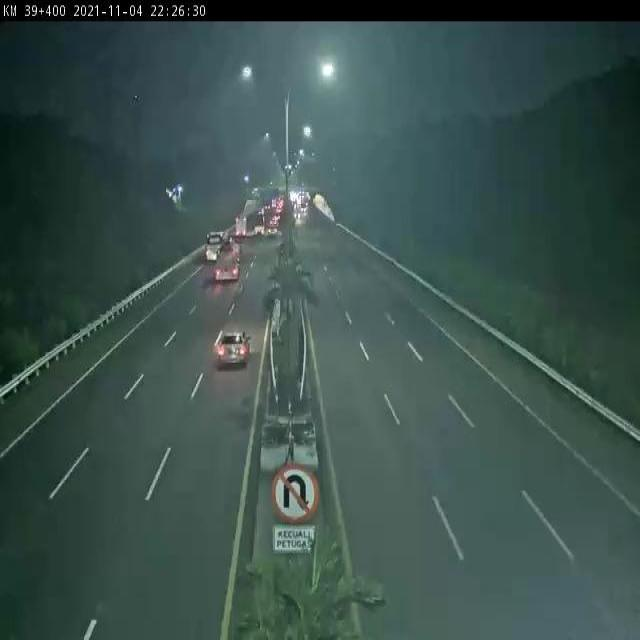bus-l-: (192, 225, 222, 264)
car: (210, 318, 258, 382)
truck-xl-: (211, 244, 249, 301)
